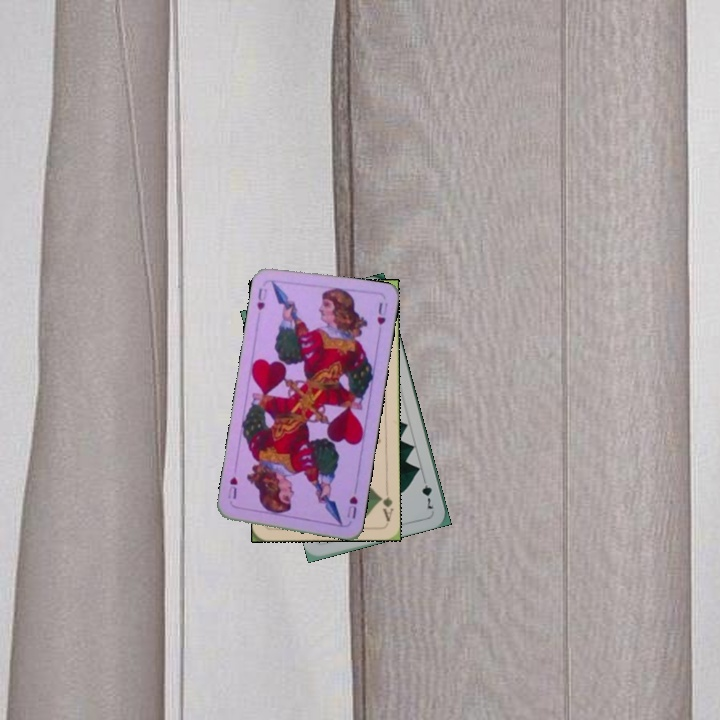G7: (418, 472, 436, 512)
GA: (376, 483, 395, 524)
HU: (343, 492, 360, 521), (253, 284, 269, 313)
